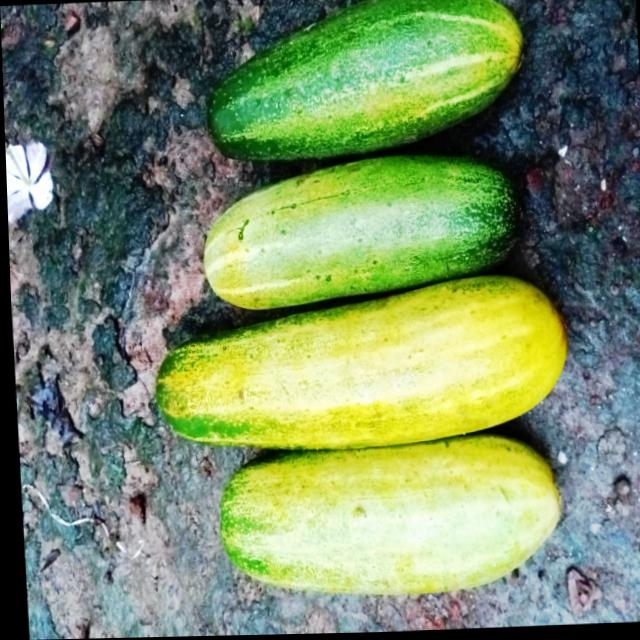Fresh-Cucumber: (145, 272, 573, 460), (212, 434, 564, 602), (195, 0, 528, 170), (194, 148, 529, 316)
